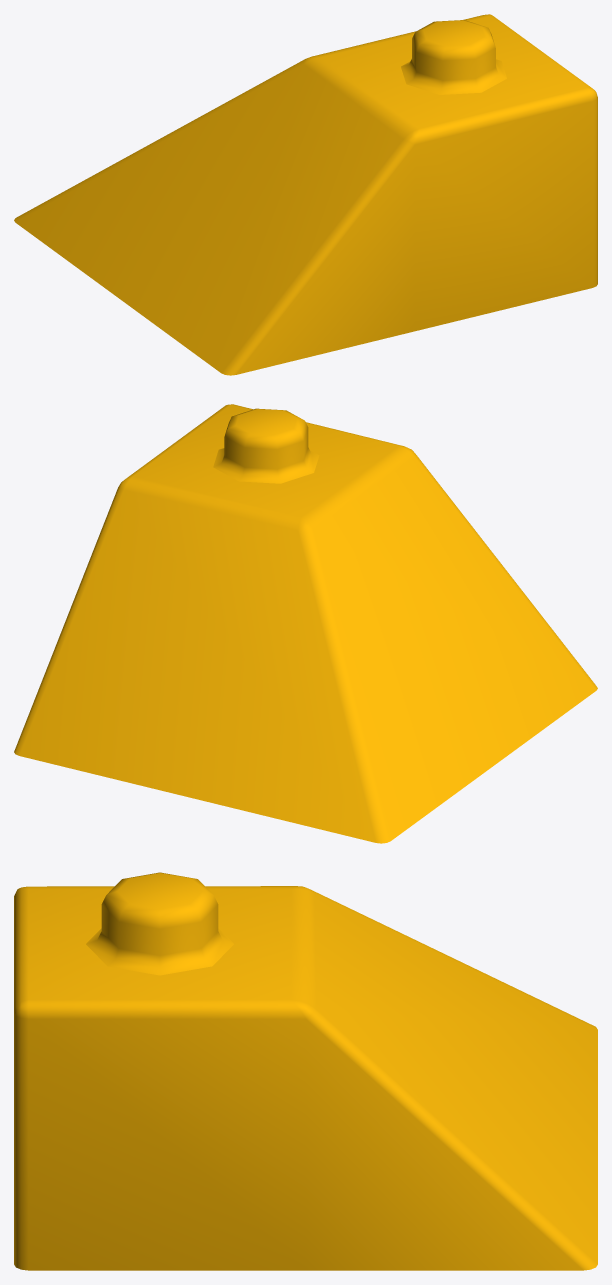
File: Two_Half_Bevels_Half.fbx
3 views of the same model, one above another, from view 1: azimuth 30°, elevation 25°; view 2: azimuth 150°, elevation 25°; view 3: azimuth 270°, elevation 25° (orthographic). The views are drawn at different scales.
Parts seen in each view (by area): view 1: Two_Half_Bevels_Half, Knobs.019; view 2: Two_Half_Bevels_Half, Knobs.019; view 3: Two_Half_Bevels_Half, Knobs.019.
Boxes of the visible parts, x1,y1,x2,y2 form: Two_Half_Bevels_Half: (14,14,597,375); Knobs.019: (401,20,506,94); Two_Half_Bevels_Half: (14,404,597,843); Knobs.019: (213,408,319,483); Two_Half_Bevels_Half: (14,886,597,1270); Knobs.019: (86,872,233,975).
Size of the model in its own units: 1 by 0.6 by 1.
